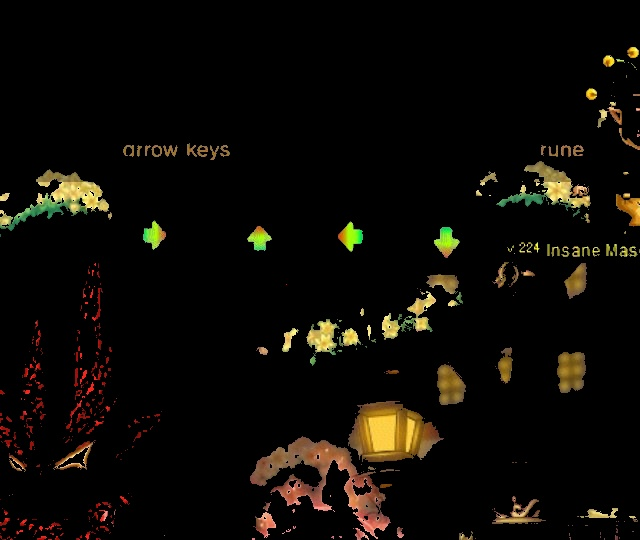down: (430, 221, 463, 264)
left: (332, 214, 368, 256)
right: (133, 215, 174, 258)
up: (244, 219, 277, 256)
